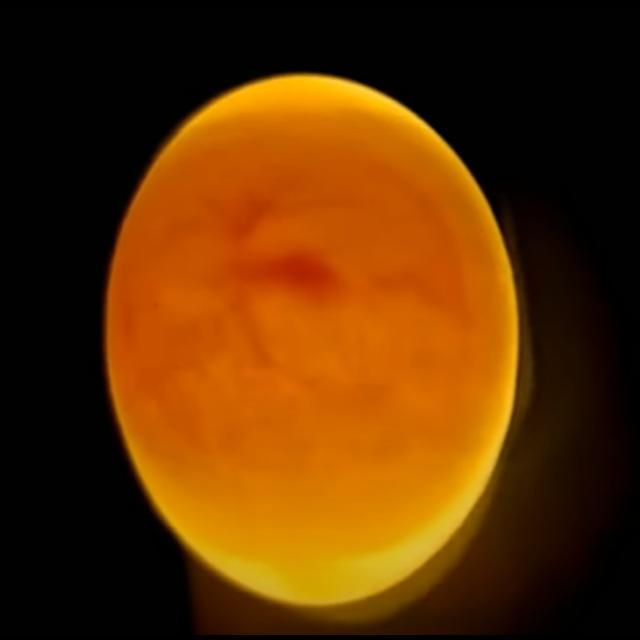Fertile: (95, 63, 528, 621)
